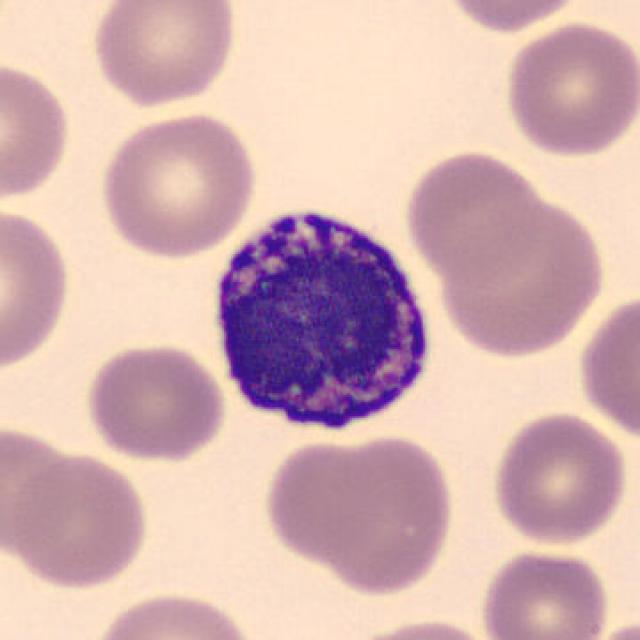Basophil: (202, 189, 442, 446)
RBC: (432, 187, 612, 361), (284, 430, 458, 598), (95, 107, 262, 261), (5, 450, 155, 592), (400, 146, 548, 286), (487, 408, 631, 548), (500, 18, 638, 160), (82, 338, 231, 466), (260, 436, 391, 568), (87, 0, 241, 109), (476, 545, 614, 640), (0, 203, 75, 374), (0, 418, 80, 562), (0, 54, 75, 204), (574, 286, 640, 446), (87, 587, 261, 640), (435, 0, 588, 35), (341, 615, 498, 640), (588, 613, 639, 640)
